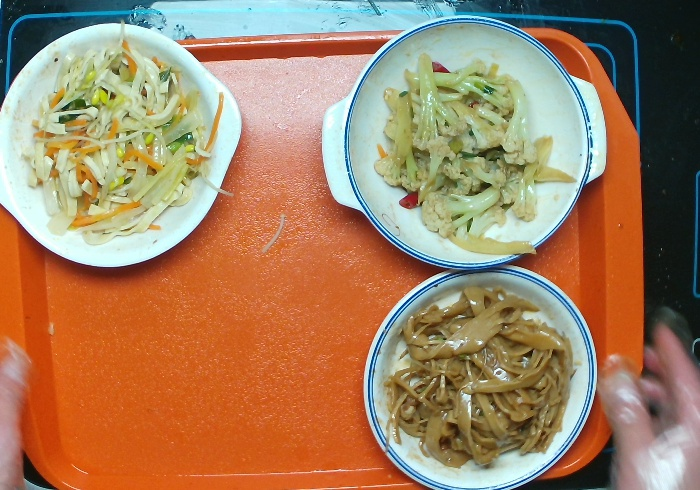HZYJPL-Dai_Er_Bai_Yuan_Wan: (1, 19, 250, 272)
HZYJPL-Lan_Bian_Dai_Er_Wan: (312, 10, 613, 275)
HZYJPL-Lan_Bian_Yuan_Die: (355, 259, 600, 490)
